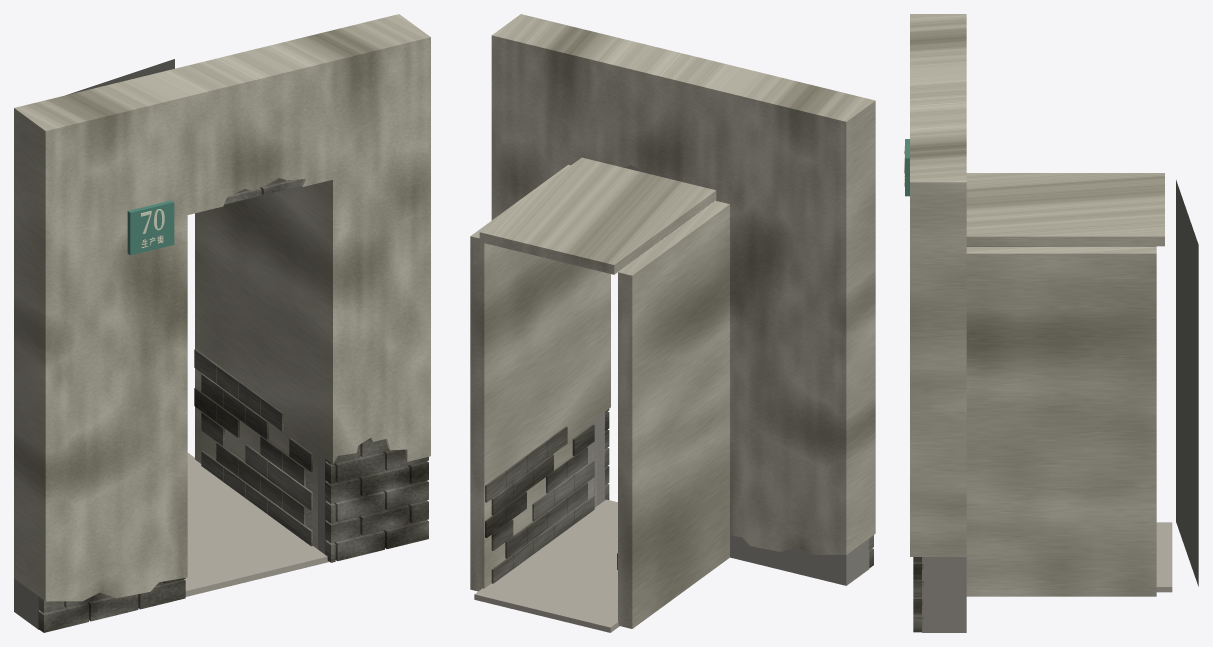
The model's file is fengjing-shengchan-70-passage-reveal-far.glb.
The picture shows the model from 3 angles, left to right: view 1: azimuth 30°, elevation 25°; view 2: azimuth 150°, elevation 25°; view 3: azimuth 270°, elevation 25°; orthographic projection. The views are drawn at different scales.
Parts seen in each view (by area): view 1: 枫泾生产街70号入巷门洞与嵌砖墙脚; view 2: 枫泾生产街70号入巷门洞与嵌砖墙脚; view 3: 枫泾生产街70号入巷门洞与嵌砖墙脚.
Part boxes in pixels (x1=…): 枫泾生产街70号入巷门洞与嵌砖墙脚: x1=14, y1=14, x2=430, y2=632; 枫泾生产街70号入巷门洞与嵌砖墙脚: x1=470, y1=14, x2=875, y2=632; 枫泾生产街70号入巷门洞与嵌砖墙脚: x1=904, y1=14, x2=1198, y2=632.
Bounding box in the file's own units: 2.28 × 2.86 × 1.69.
Materials: 7 (2 with a texture image).
